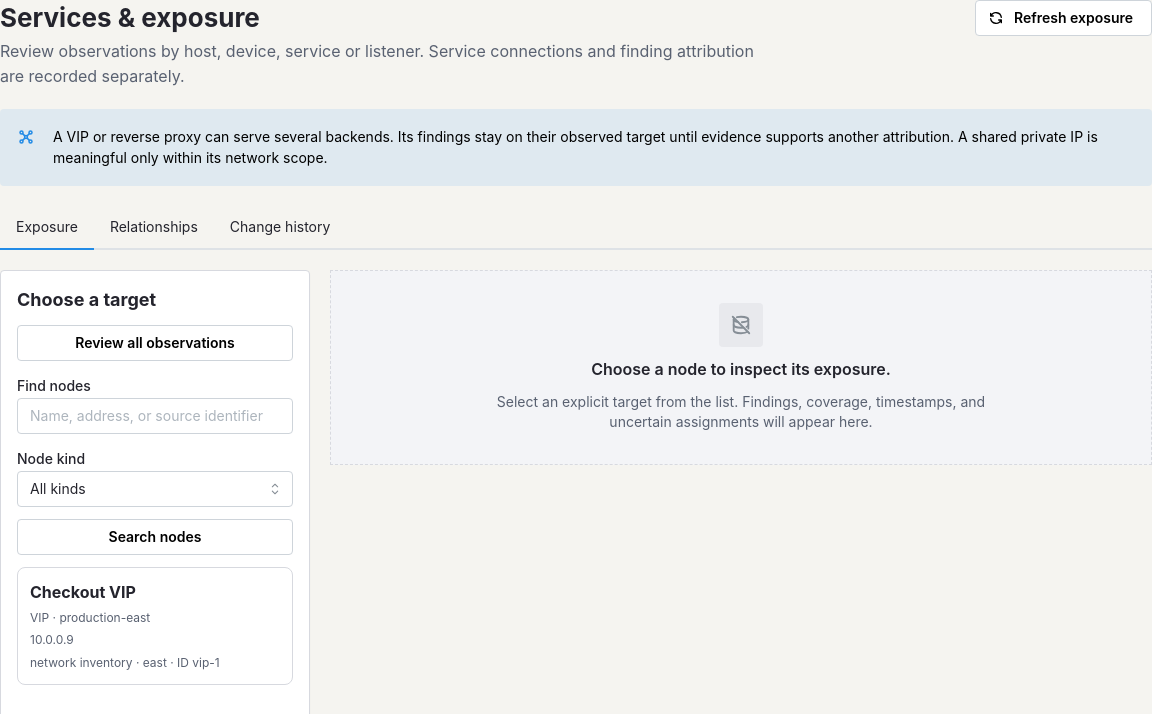
Scenario: service exposure › offers report review to read-only accounts without write controls or requests
Click the button with aria-label "Select Checkout VIP".
click(83, 592)  # box [17,567,293,685]
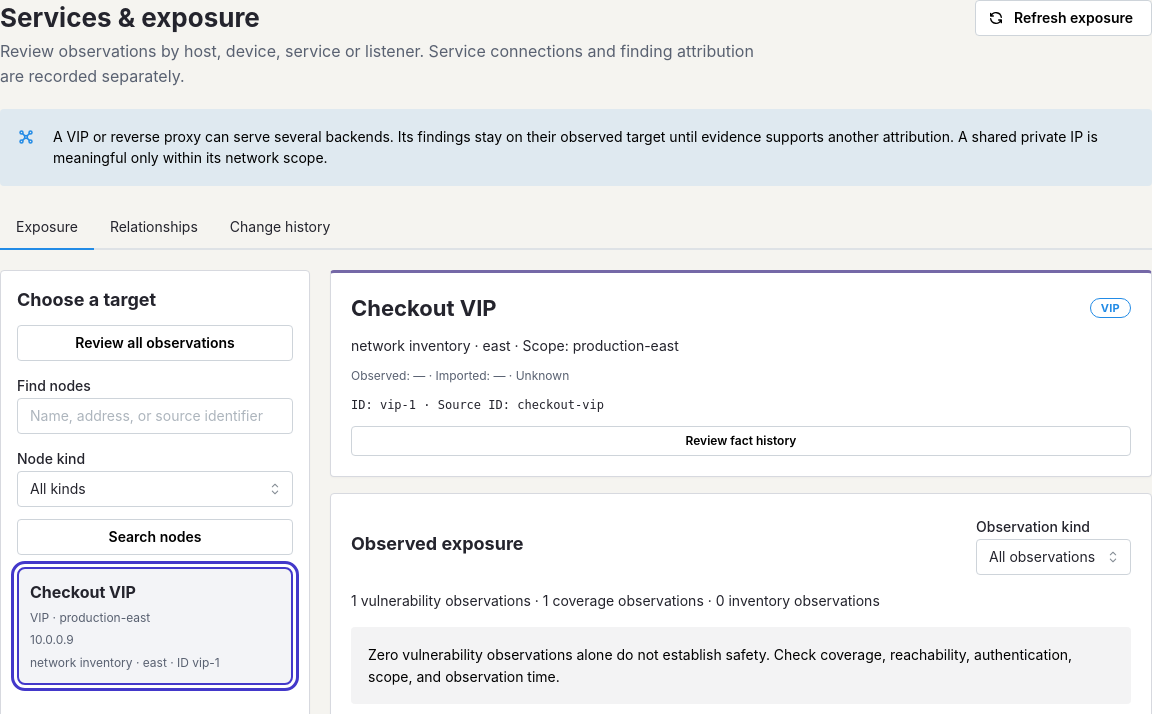
Click the tab "Change history".
click(280, 228)  # box [214,206,346,250]
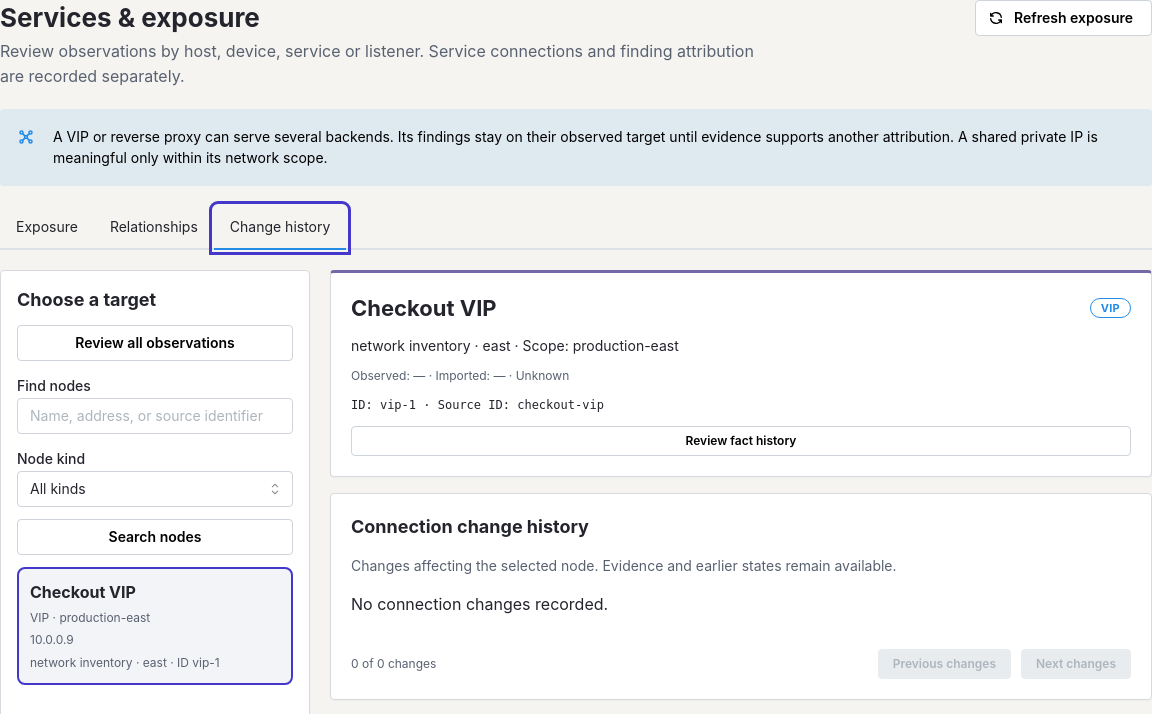
Expected: the text "No connection changes recorded." is shown, [351,594,608,614]
